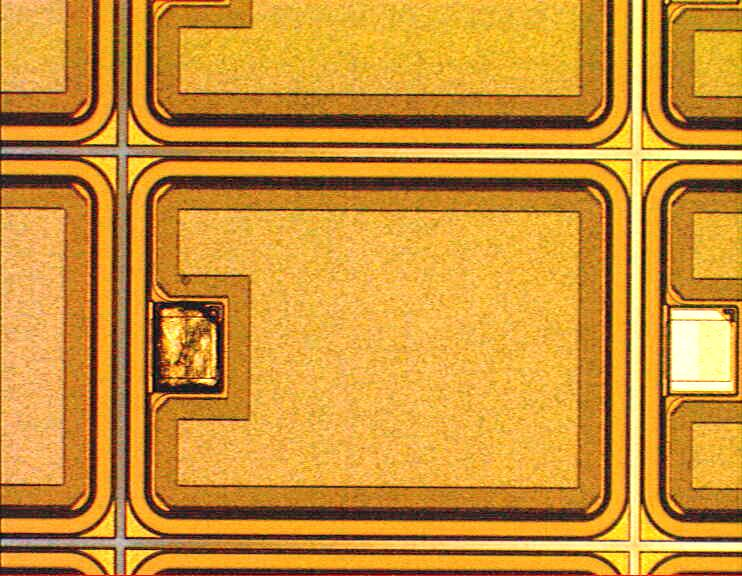SEZ BURNT: (154, 301, 226, 394)
